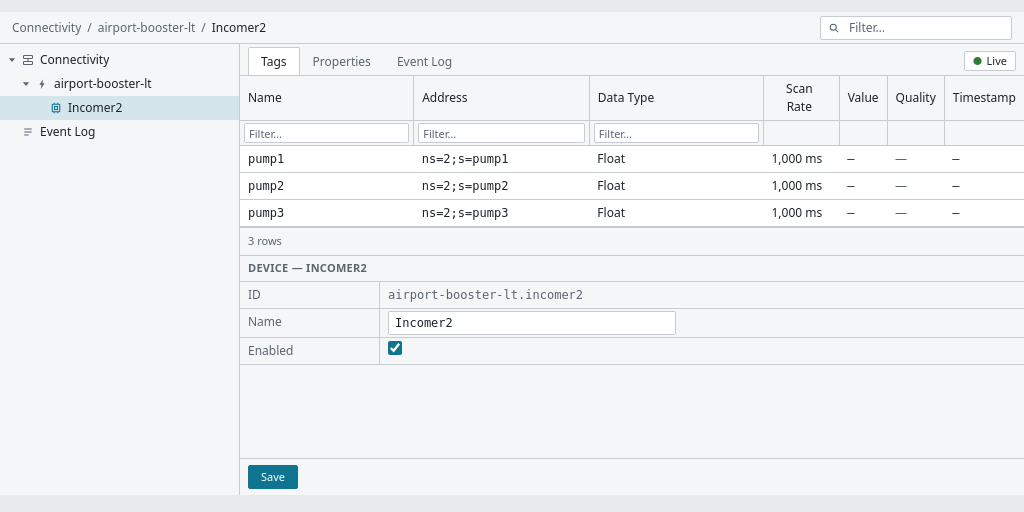
Test case: ConnectivityPage tag row selection › shows device tags and renders the tag inspector when a row is clicked
# click the pump1 row
Click the text "pump1" at x=266, y=159, box [248,152,284,166]
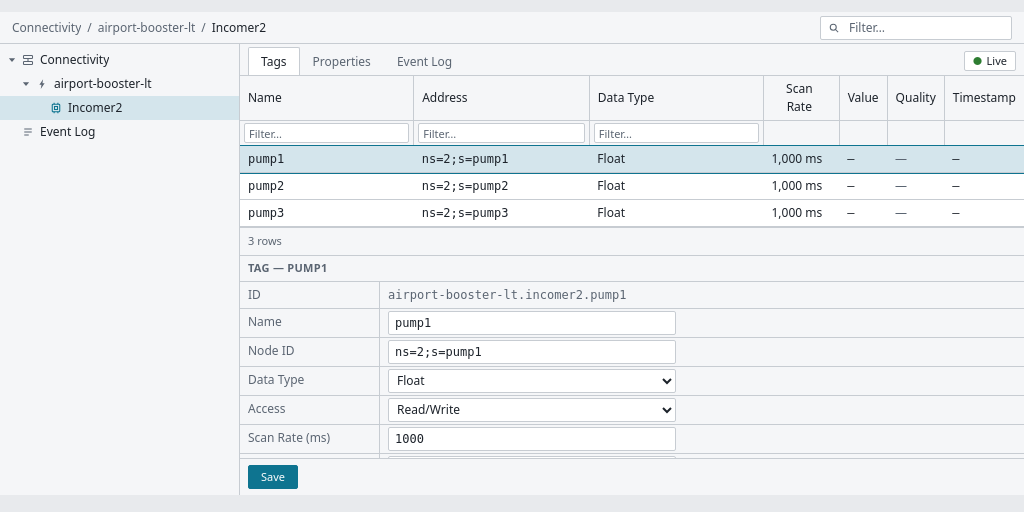
Check: the heading "Tag — pump1" is shown, box [240,256,1023,282]
